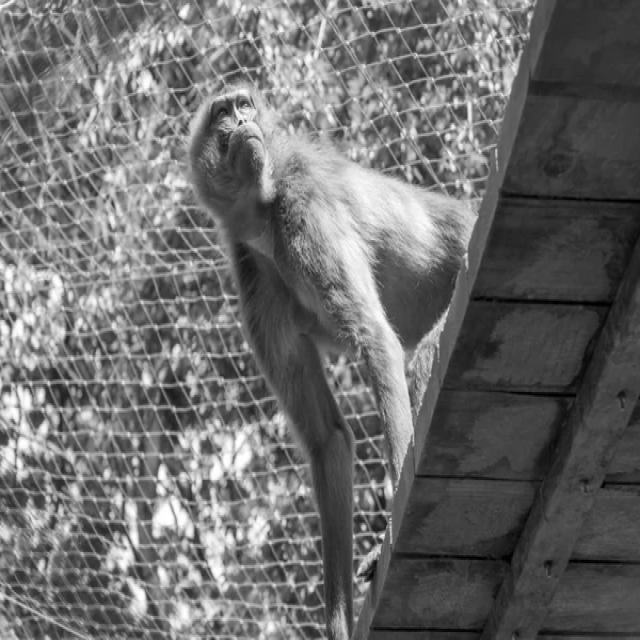Animal: (188, 86, 474, 640)
